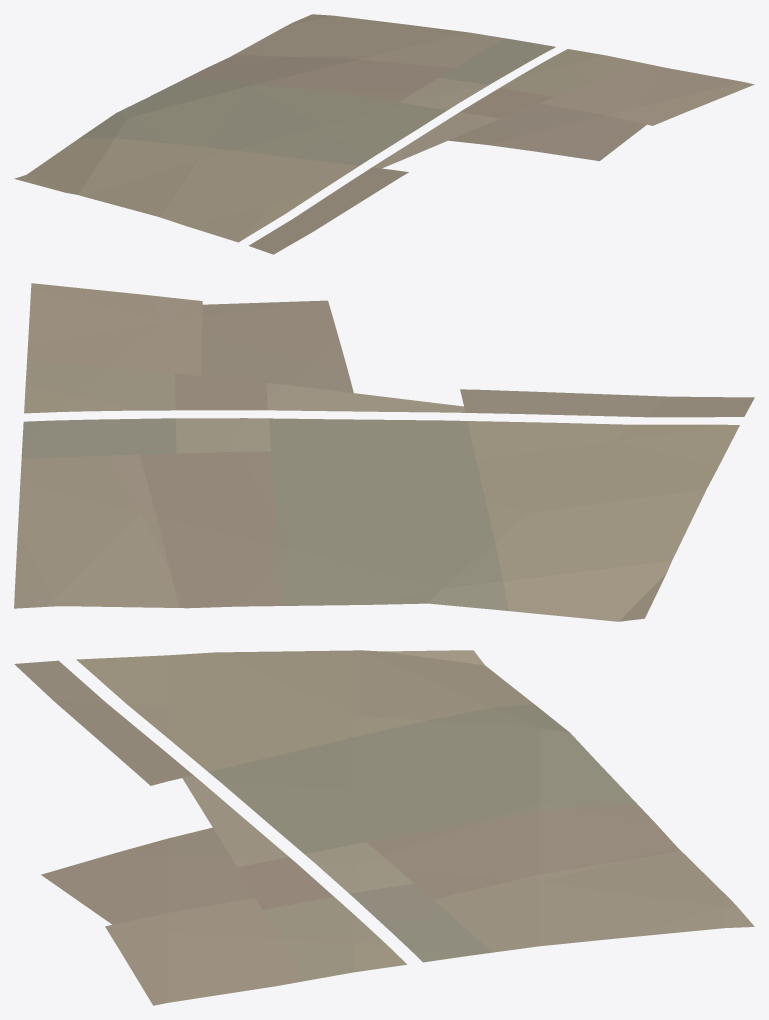
The model's file is farm_-13_-11_soil.glb.
3 views of the same model, one above another, from view 1: azimuth 30°, elevation 25°; view 2: azimuth 150°, elevation 25°; view 3: azimuth 270°, elevation 25° (orthographic). The views are drawn at different scales.
Visible parts, largest first — view 1: geometry_0; view 2: geometry_0; view 3: geometry_0.
Part boxes in pixels (x1,y1,x2,y2): geometry_0: [14, 14, 754, 254]; geometry_0: [14, 283, 754, 621]; geometry_0: [14, 650, 754, 1005].
Bounding box in the file's own units: 405 × 29.74 × 319.
